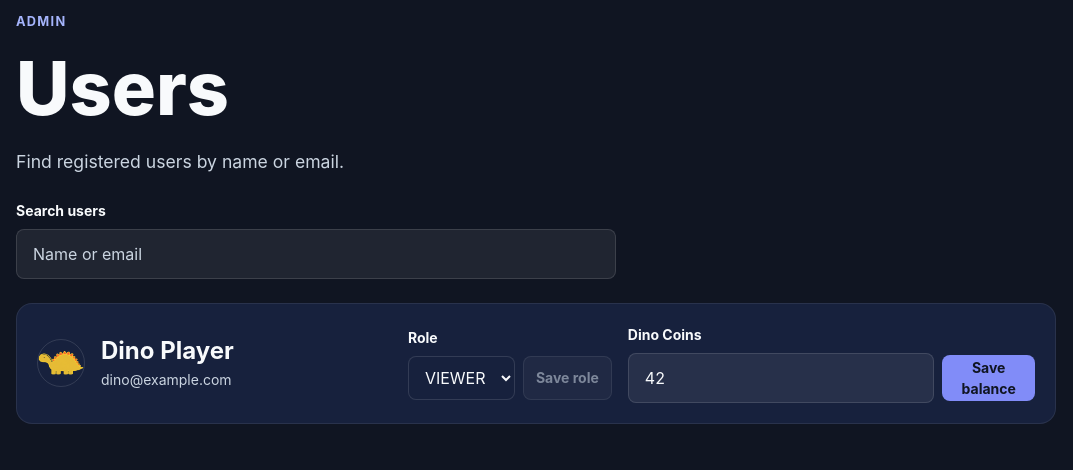
Test case: AdminUsersPage Dino Coin management › rejects a negative balance before sending it
Replace the text in the number field labelled "Dino Coins" with "-1": (781, 378) [628, 353, 934, 403]
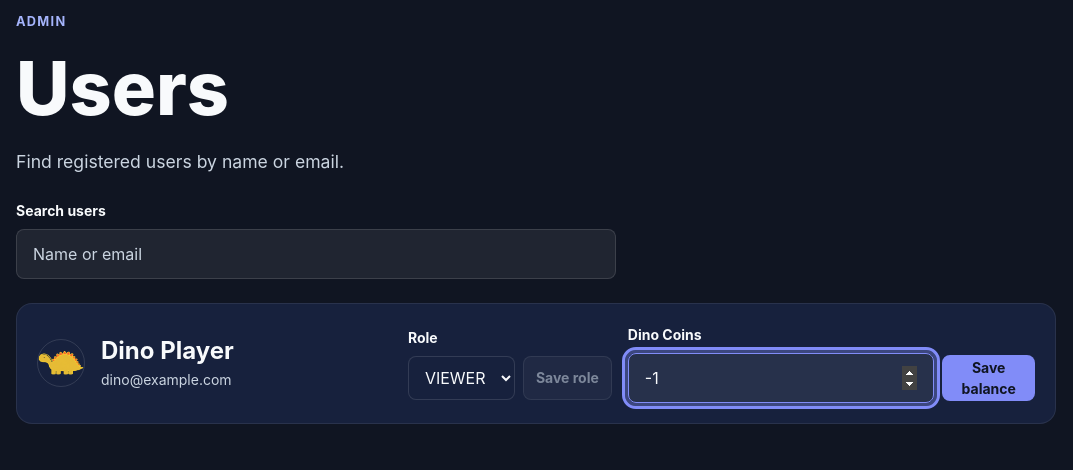
Click the button "Save balance": (989, 378) [942, 355, 1035, 401]
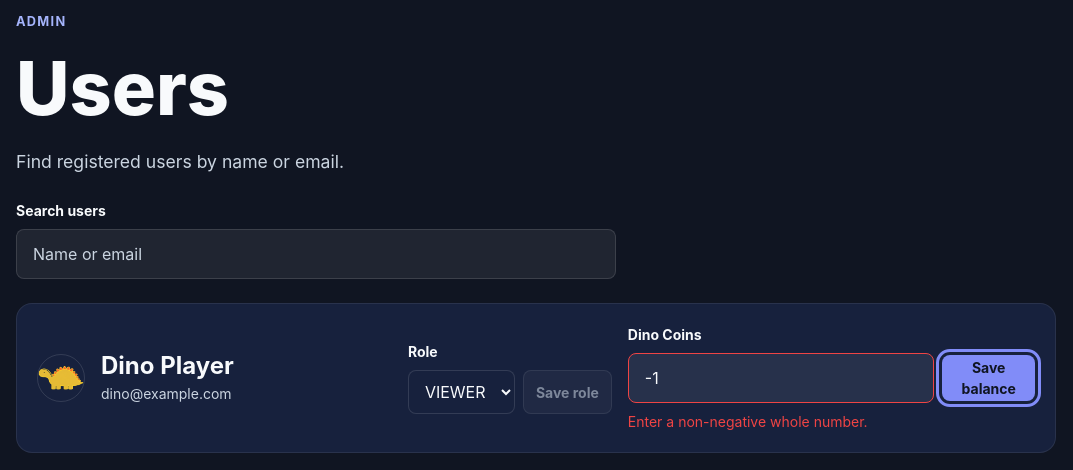
Expected: the message "Enter a non-negative whole number." is shown, [628, 413, 868, 430]
